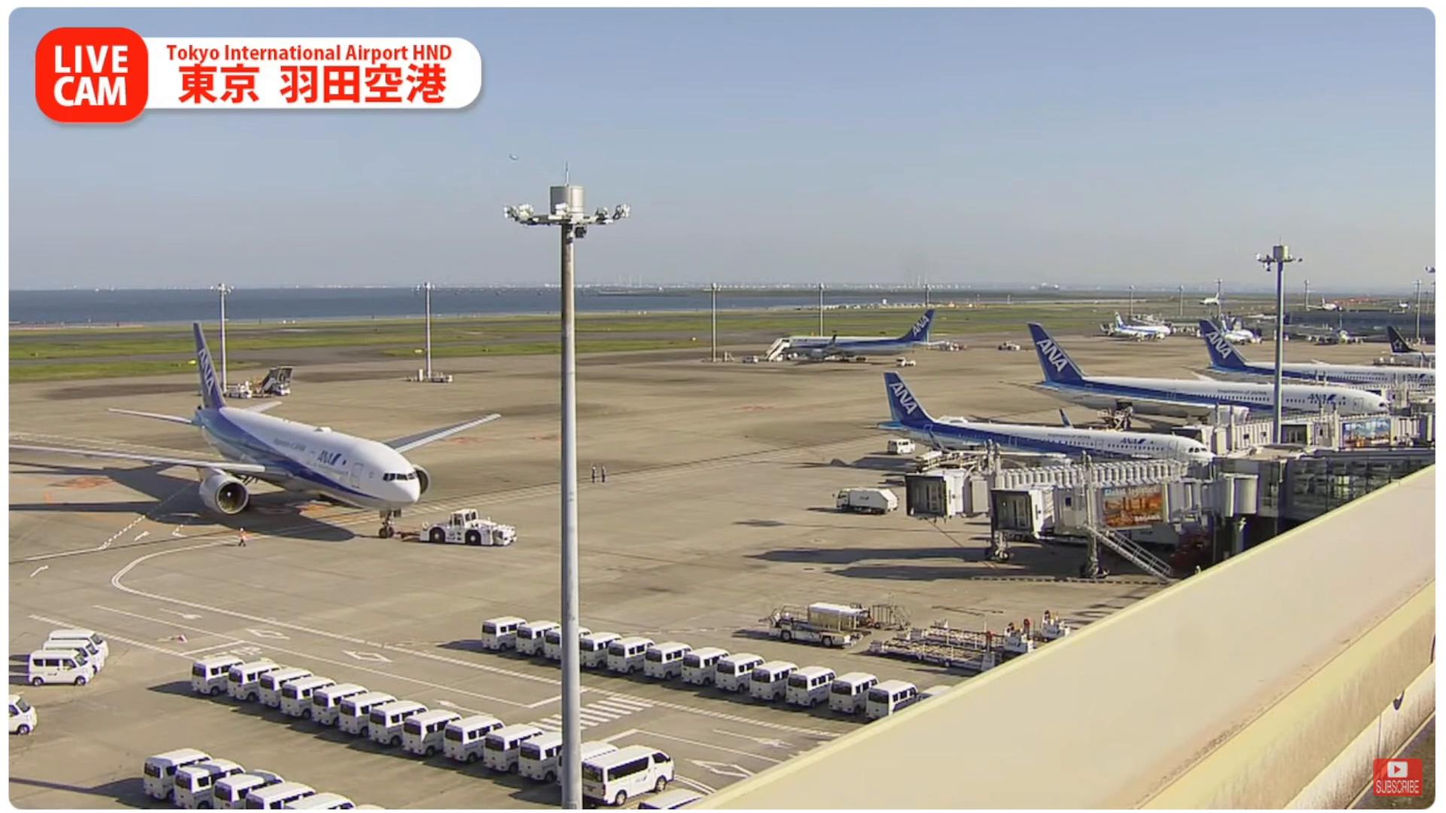APS: (427, 501, 524, 551)
Aerobridge: (904, 456, 1198, 520), (990, 479, 1258, 539)
Airplane: (7, 318, 504, 540)
JCPL: (904, 613, 1077, 658), (867, 634, 1012, 675)
Skyloader: (761, 600, 870, 651)
Window: (1281, 462, 1437, 524)
